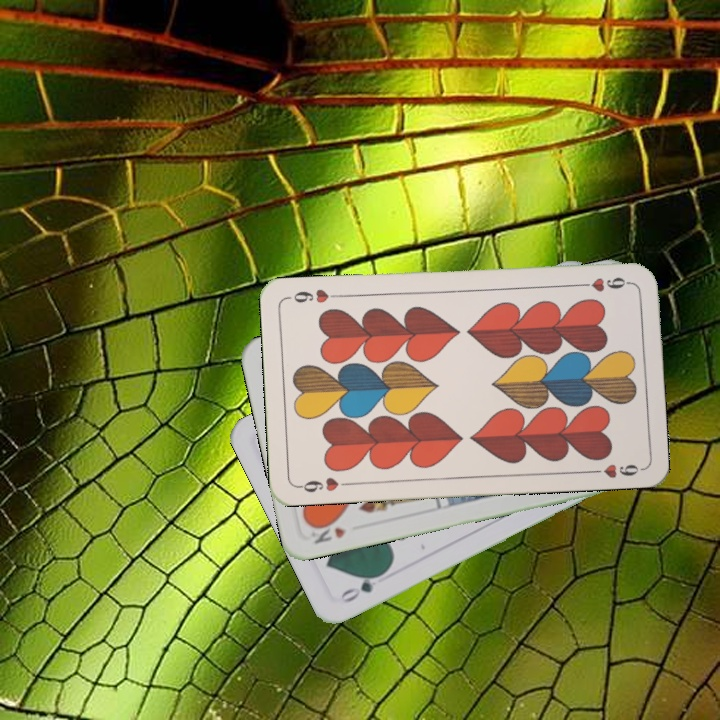GO: (335, 567, 388, 606)
H9: (294, 473, 353, 495), (574, 273, 633, 294)
HK: (304, 517, 349, 547)
